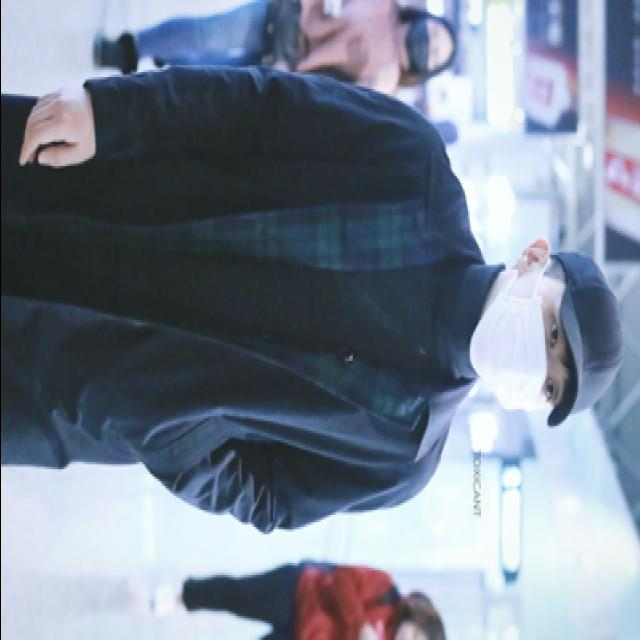with_mask: (469, 276, 568, 412), (406, 14, 448, 72)
